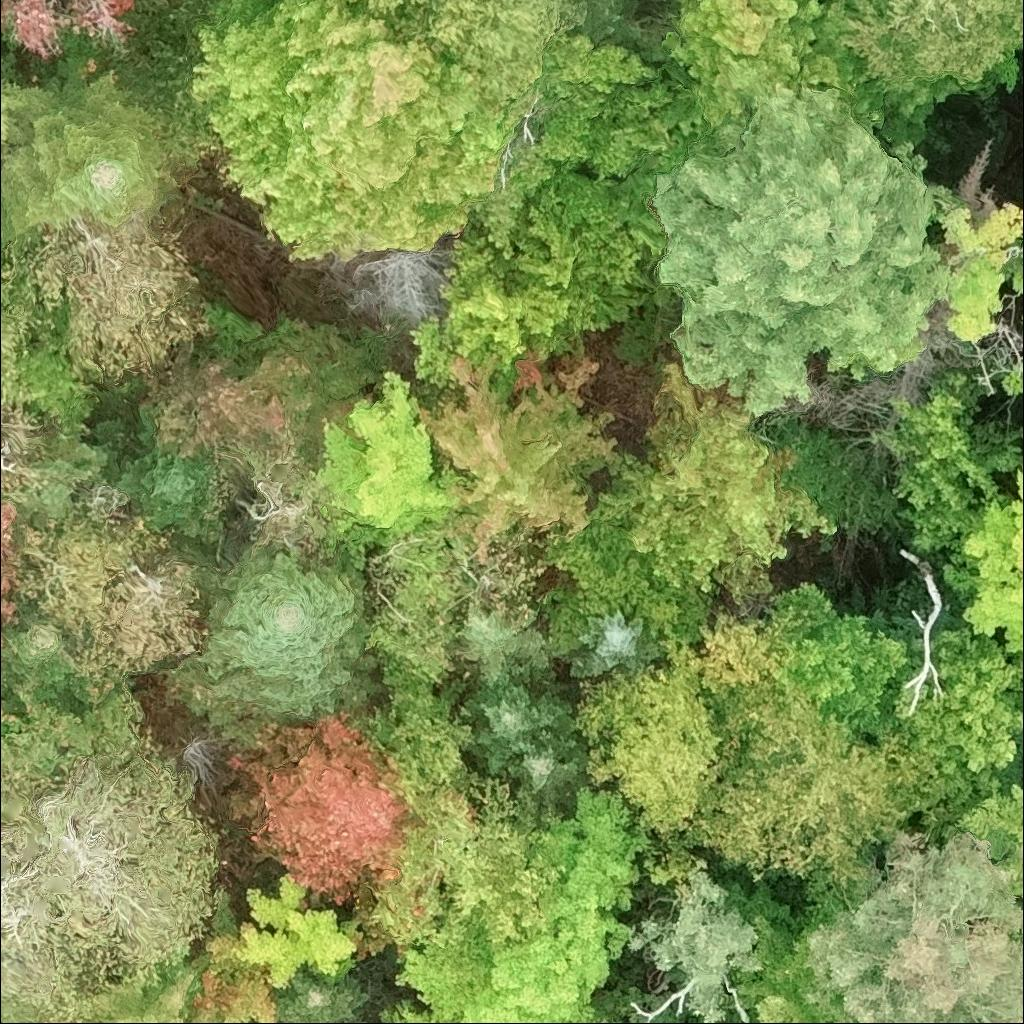crown: (646, 86, 956, 417), (188, 0, 541, 263), (0, 737, 219, 1023), (588, 356, 840, 602), (407, 179, 663, 389), (674, 691, 939, 884), (418, 338, 632, 563), (459, 781, 654, 1023), (660, 0, 971, 146), (800, 824, 1023, 1023), (230, 715, 428, 905), (874, 600, 1023, 810), (311, 368, 467, 562), (198, 543, 371, 716), (571, 639, 722, 834), (0, 82, 174, 247), (868, 370, 1023, 554), (33, 208, 205, 369), (25, 525, 198, 685), (531, 30, 708, 185), (401, 770, 552, 950), (192, 868, 358, 1023), (763, 581, 916, 739), (153, 353, 344, 478), (622, 861, 761, 1023), (539, 521, 714, 649), (387, 0, 593, 96), (368, 524, 474, 686), (840, 0, 1023, 88), (373, 657, 474, 813), (941, 465, 1023, 653), (930, 188, 1023, 345), (459, 667, 574, 779), (695, 609, 788, 735), (120, 424, 220, 540), (394, 911, 495, 1023), (734, 918, 831, 1023), (454, 603, 564, 686), (554, 609, 663, 682), (0, 0, 136, 57), (104, 953, 212, 1023), (503, 731, 586, 811), (944, 777, 1023, 860), (0, 81, 52, 175), (274, 972, 365, 1023), (323, 0, 443, 21), (0, 501, 18, 640), (1003, 257, 1023, 298), (1001, 357, 1023, 394), (721, 1008, 750, 1023), (1019, 309, 1023, 345), (751, 1017, 757, 1023), (1020, 203, 1023, 215), (0, 58, 2, 70)
